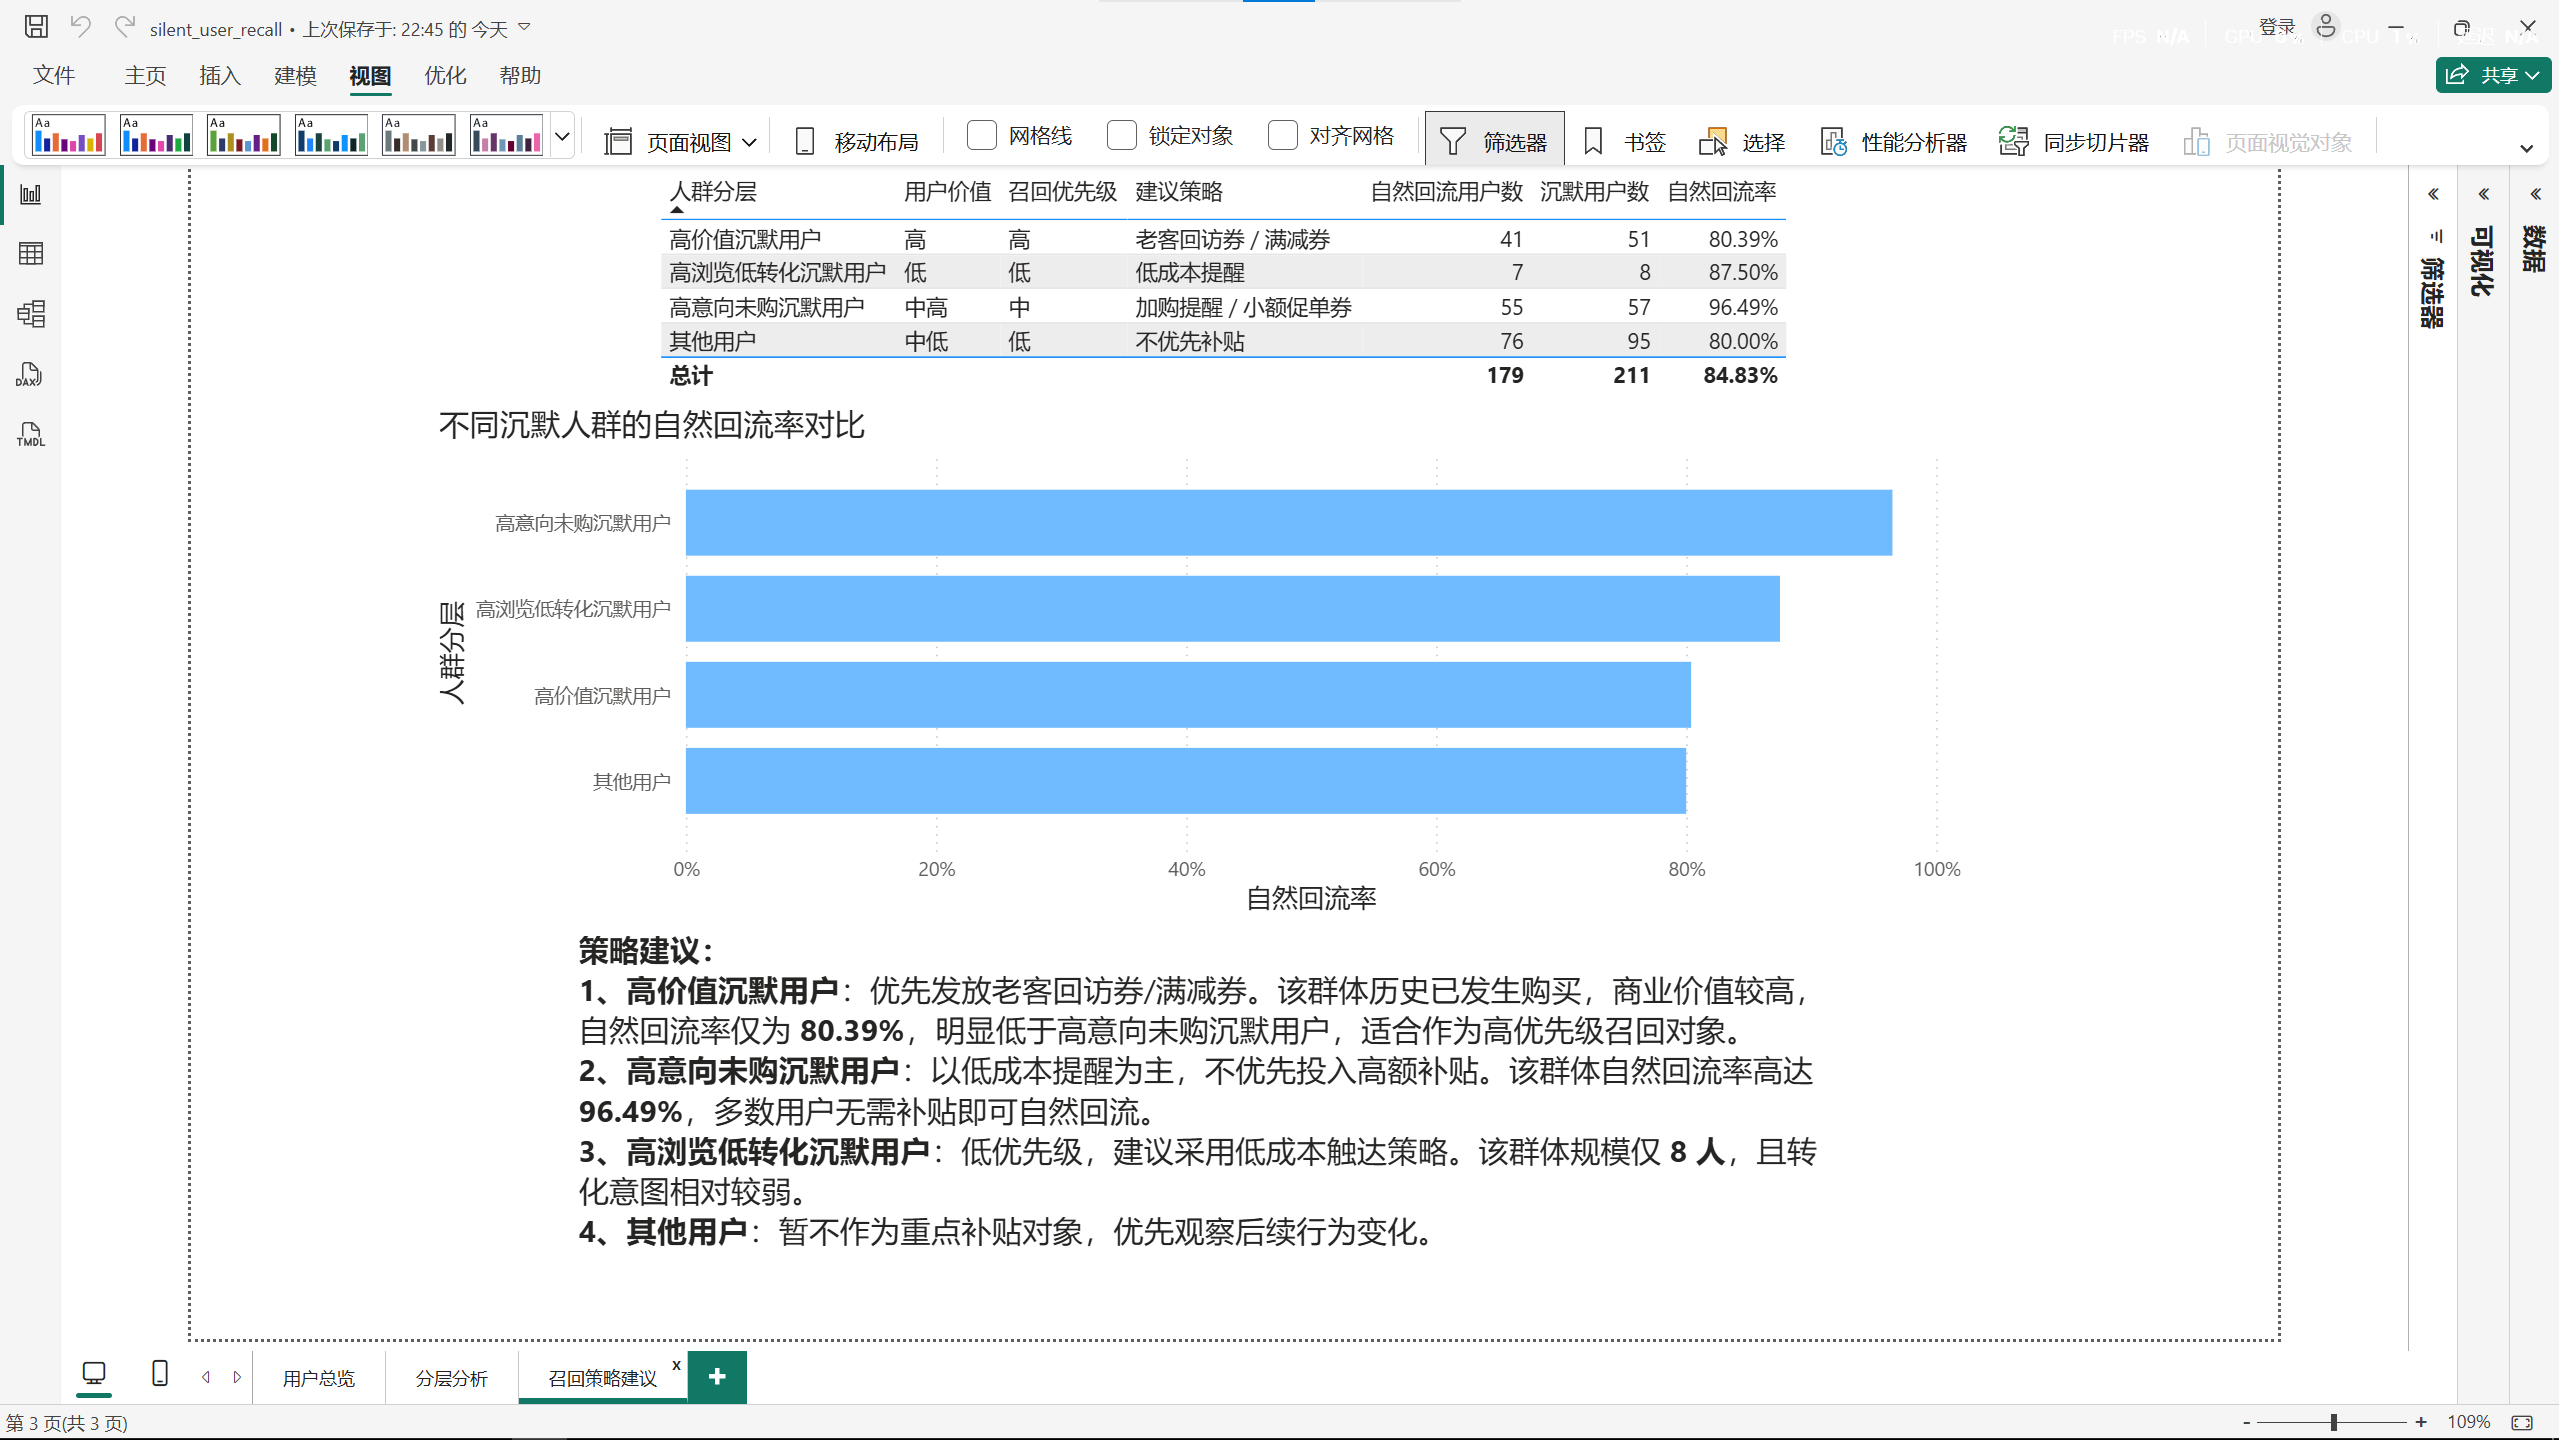

Layout of this report page (visuals, bound fields, positions):
{"tool":"powerbi","page":{"name":"召回策略建议","canvas":[1280,720],"ordinal":2},"visuals":[{"type":"tableEx","fields":{"Values":["taobao_project strategy_map.segment","taobao_project strategy_map.business_value","taobao_project strategy_map.recall_priority","taobao_project strategy_map.strategy","taobao_project_recall_segment.Returned Silent Users","taobao_project_recall_segment.Segment Silent Users","taobao_project_recall_segment.Segment Natural Return Rate"]},"box":[282.9,0,715.7,158.6],"z":0},{"type":"clusteredBarChart","title":"不同沉默人群的自然回流率对比","fields":{"Category":["taobao_project_recall_segment.segment"],"Y":["taobao_project_recall_segment.Segment Natural Return Rate"]},"box":[147.1,145.7,942.9,317.1],"z":1000},{"type":"textbox","box":[232.9,462.9,781.4,240],"z":1001}]}

Visuals, with their boxes on the page's 1280x720 design canvas (x1, y1, x2, y2). These are canvas units, not pixel positions in the 2559x1440 screenshot, which may show the page scaled, cropped or inside an application window:
tableEx - taobao_project strategy_map.segment x taobao_project strategy_map.business_value: 283,0,999,159
"不同沉默人群的自然回流率对比" clusteredBarChart: 147,146,1090,463
textbox: 233,463,1014,703
